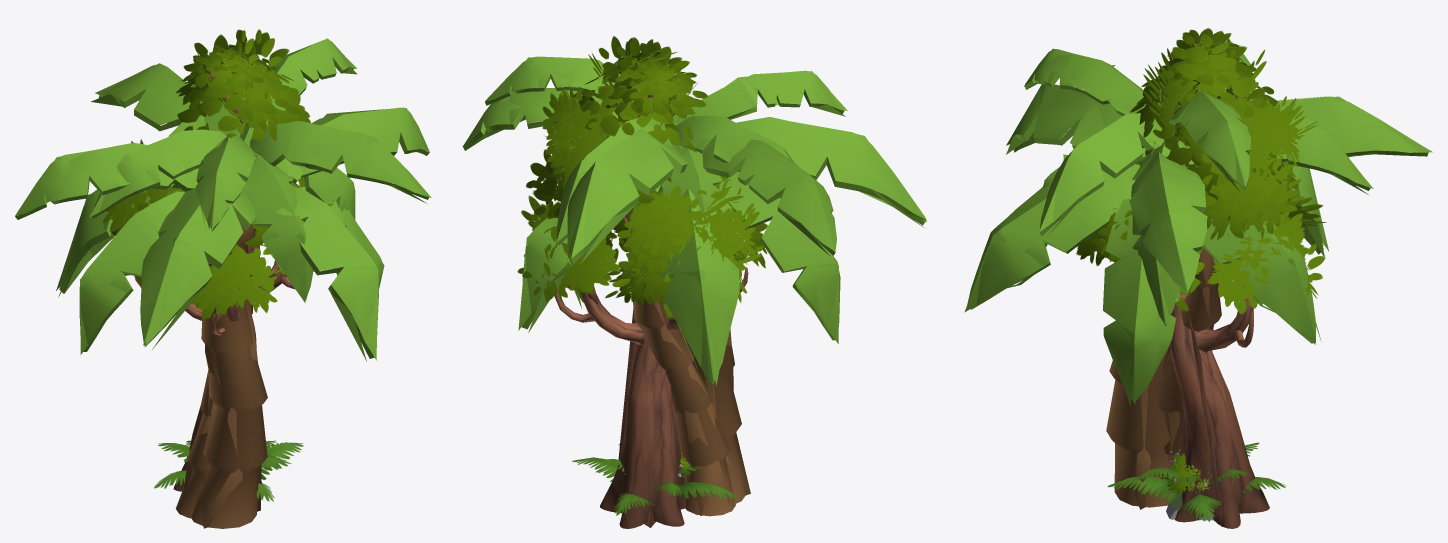
The model's file is nature.glb.
3 renders of one model, left to right at view 1: azimuth 30°, elevation 25°; view 2: azimuth 150°, elevation 25°; view 3: azimuth 270°, elevation 25°, orthographic. The views are drawn at different scales.
Visible parts, largest first — view 1: FanPalm, PalmTree, CanopyTree, FanPalmLOD, PalmTreeLOD, Fern, CanopyTreeLOD; view 2: CanopyTree, FanPalm, PalmTree, FanPalmLOD, PalmTreeLOD, CanopyTreeLOD, Fern; view 3: FanPalm, CanopyTree, PalmTree, FanPalmLOD, PalmTreeLOD, CanopyTreeLOD, Fern, FlowerBush.
Part boxes in pixels (left/top/right/bottom): FanPalm: left=15, top=64, right=429, bottom=528; PalmTree: left=92, top=39, right=428, bottom=518; CanopyTree: left=102, top=29, right=347, bottom=493; FanPalmLOD: left=46, top=63, right=407, bottom=528; PalmTreeLOD: left=89, top=38, right=431, bottom=508; Fern: left=154, top=440, right=303, bottom=501; CanopyTreeLOD: left=103, top=30, right=310, bottom=319; CanopyTree: left=517, top=36, right=767, bottom=528; FanPalm: left=462, top=91, right=926, bottom=503; PalmTree: left=485, top=55, right=844, bottom=516; FanPalmLOD: left=469, top=88, right=926, bottom=495; PalmTreeLOD: left=488, top=57, right=847, bottom=515; CanopyTreeLOD: left=522, top=36, right=766, bottom=527; Fern: left=572, top=444, right=738, bottom=515; FanPalm: left=967, top=39, right=1428, bottom=507; CanopyTree: left=1076, top=28, right=1325, bottom=528; PalmTree: left=1025, top=49, right=1370, bottom=468; FanPalmLOD: left=964, top=84, right=1432, bottom=509; PalmTreeLOD: left=1024, top=48, right=1373, bottom=465; CanopyTreeLOD: left=1080, top=30, right=1326, bottom=526; Fern: left=1107, top=442, right=1285, bottom=521; FlowerBush: left=1155, top=449, right=1212, bottom=493.
Size of the model in its own units: 5.64 by 6.35 by 5.55.
Materials: 11 (9 with a texture image).
